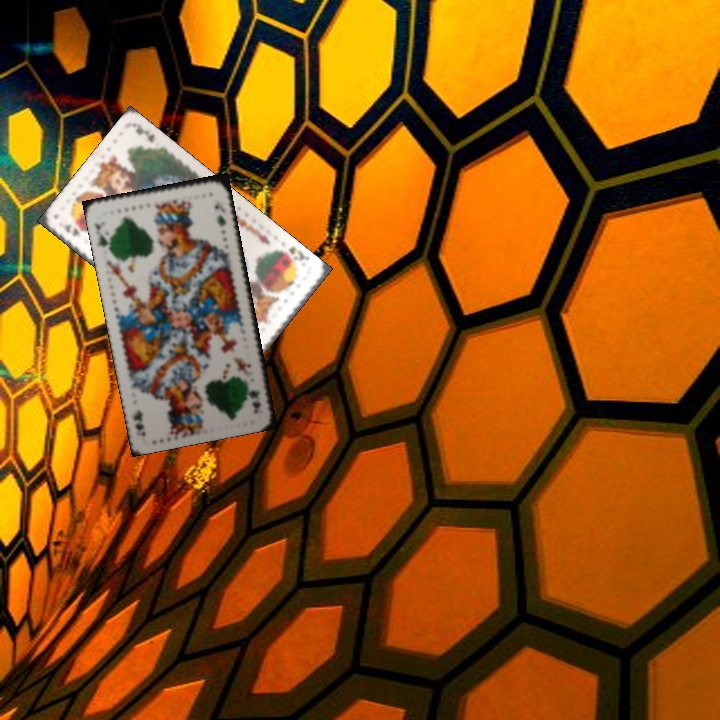GK: (91, 219, 113, 252), (246, 386, 263, 415)
SK: (275, 242, 311, 264), (60, 220, 83, 239)
